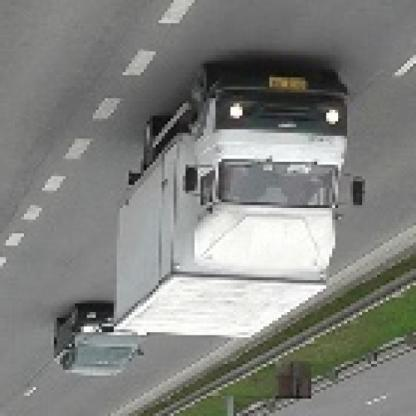truck: (118, 67, 366, 345)
